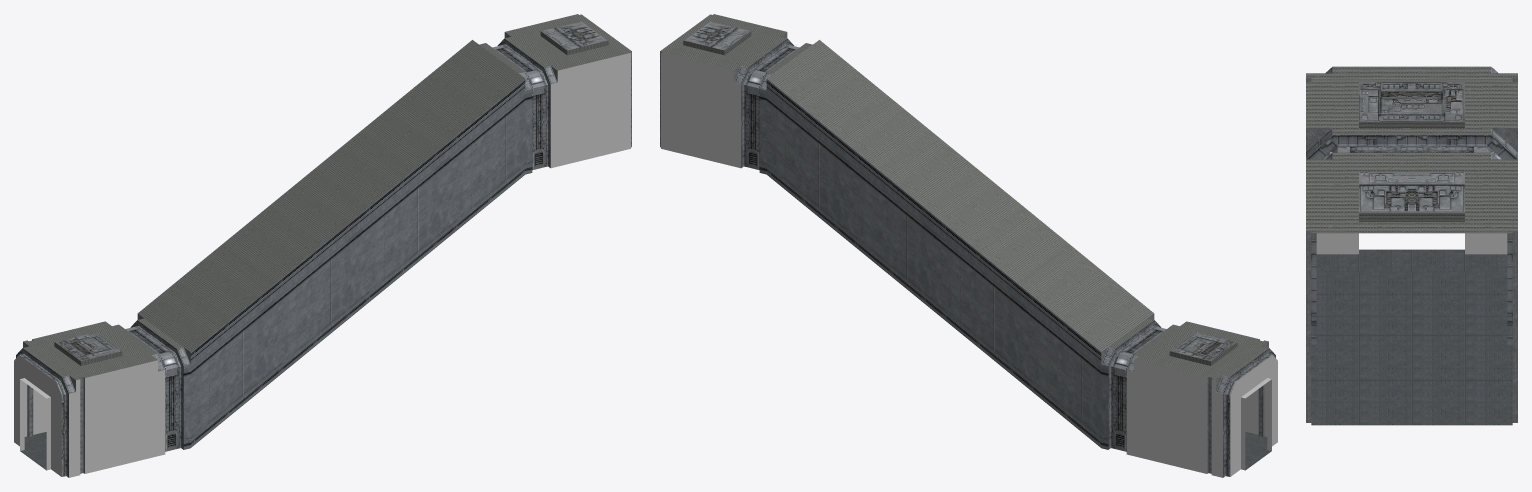
The model's file is poi_all_impl_bunker_research_facility_s01_r6_hall_mesh.fbx.
The picture shows the model from 3 angles, left to right: view 1: azimuth 30°, elevation 25°; view 2: azimuth 150°, elevation 25°; view 3: azimuth 270°, elevation 25°; orthographic projection. The views are drawn at different scales.
Parts seen in each view (by area): view 1: mesh_node; view 2: mesh_node; view 3: mesh_node.
Boxes of the visible parts, x1,y1,x2,y2 form: mesh_node: [14, 14, 631, 477]; mesh_node: [660, 14, 1277, 477]; mesh_node: [1306, 66, 1517, 425].
Bounding box in the file's own units: 25 × 12.2 × 4.
